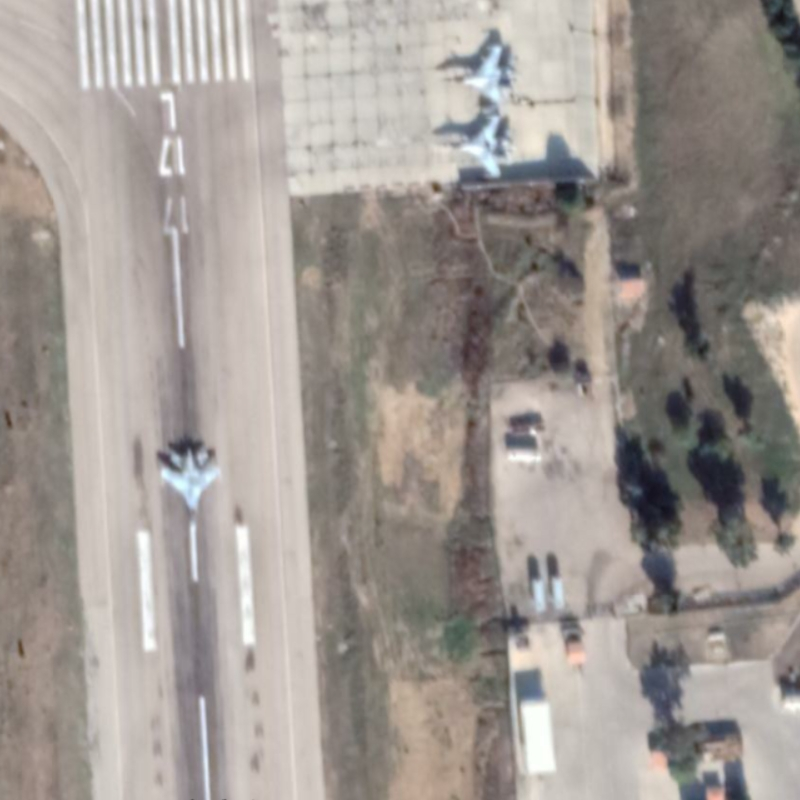A1: (427, 114, 516, 183), (157, 441, 225, 531), (437, 38, 519, 107)
